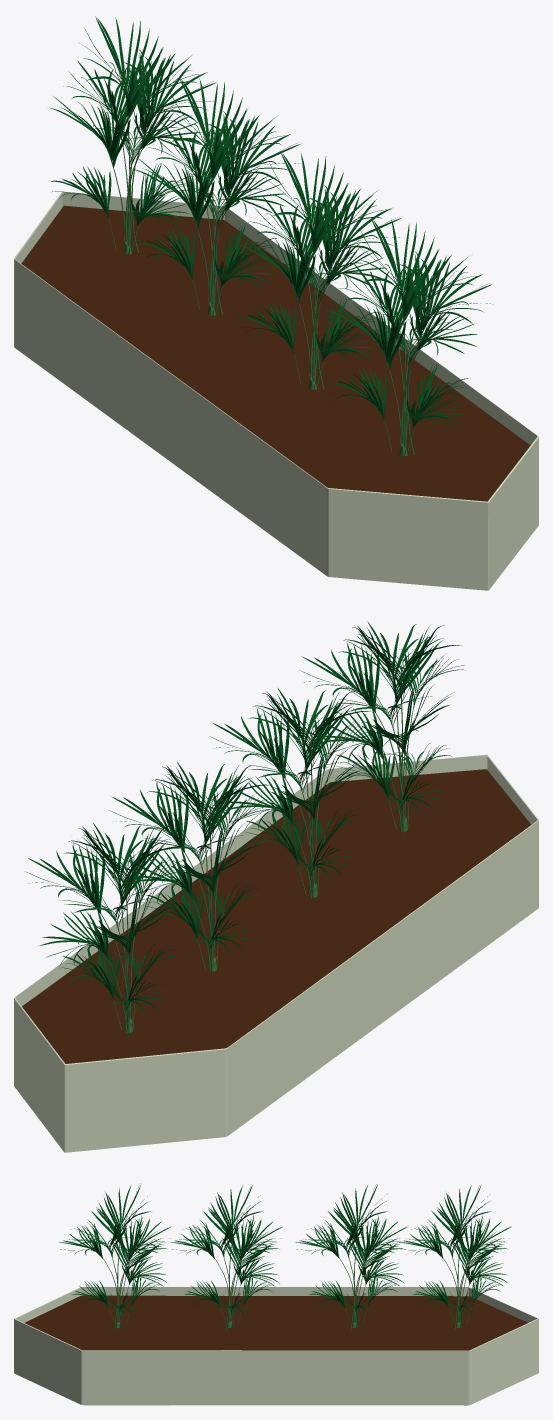
The model's file is PlanterBox (1).fbx.
The picture shows the model from 3 angles, top to bottom: view 1: azimuth 30°, elevation 25°; view 2: azimuth 150°, elevation 25°; view 3: azimuth 270°, elevation 25°; orthographic projection. The views are drawn at different scales.
Parts seen in each view (by area): view 1: Dirt, Container, Leaves, Stems.003; view 2: Dirt, Container, Leaves, Stems.003; view 3: Container, Dirt, Leaves, Stems.003.
Part boxes in pixels (left/top/right/bottom): Dirt: left=21, top=205, right=530, bottom=501; Container: left=14, top=191, right=538, bottom=590; Leaves: left=49, top=16, right=492, bottom=427; Stems.003: left=100, top=83, right=434, bottom=456; Dirt: left=22, top=769, right=531, bottom=1063; Container: left=14, top=754, right=538, bottom=1152; Leaves: left=25, top=621, right=465, bottom=1014; Stems.003: left=88, top=664, right=419, bottom=1036; Container: left=14, top=1287, right=538, bottom=1405; Dirt: left=24, top=1295, right=527, bottom=1350; Leaves: left=59, top=1184, right=511, bottom=1316; Stems.003: left=97, top=1223, right=478, bottom=1329.
Bounding box in the file's own units: 313 × 427 × 1085.
